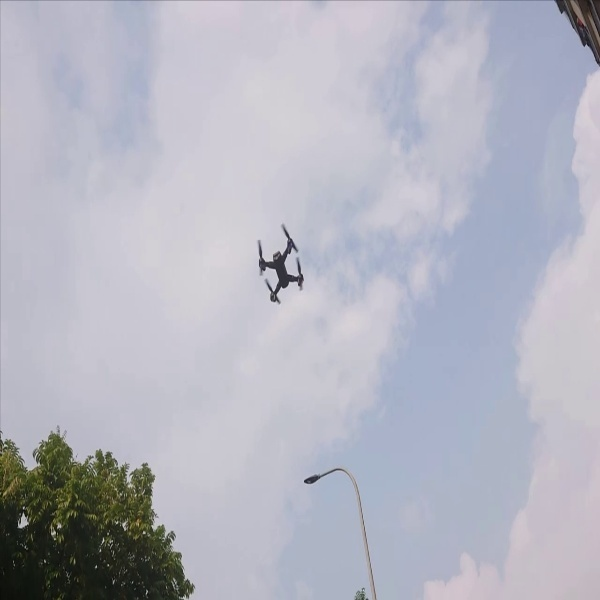drone: (239, 218, 312, 310)
